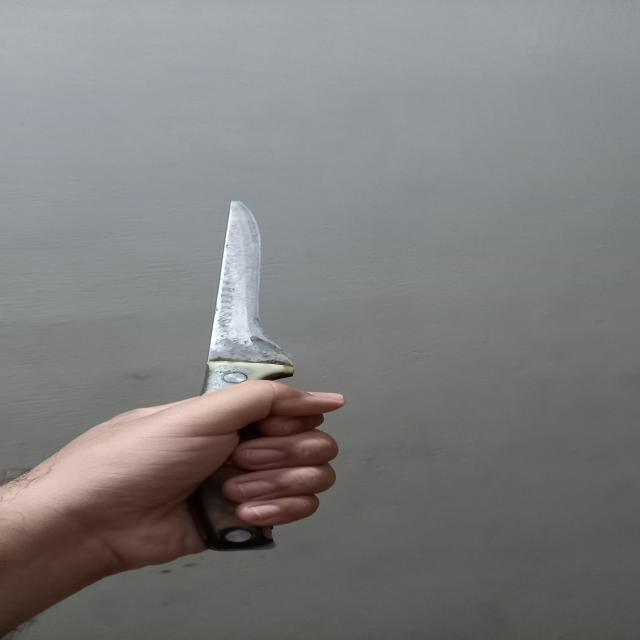Knife: (196, 180, 336, 552)
